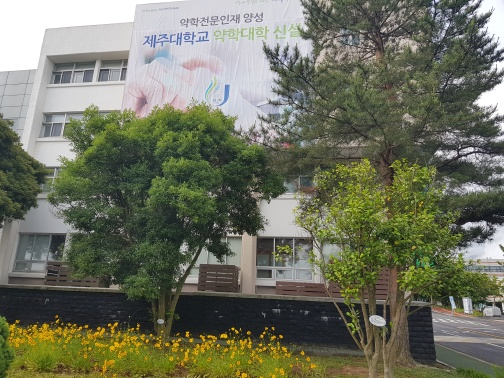Main Building of University: (4, 4, 433, 357)
